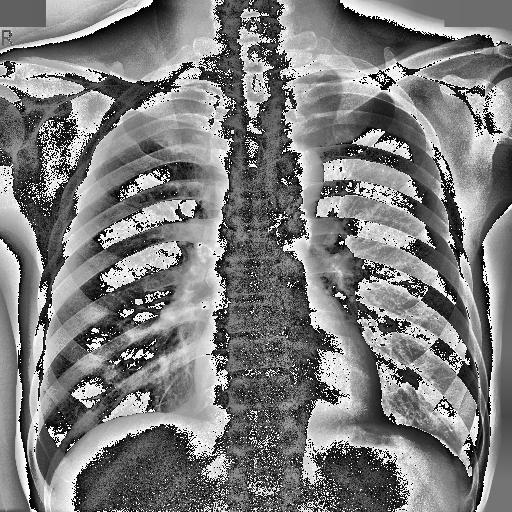0- Aortic enlargement: (260, 138, 326, 205), (264, 140, 324, 208)
11- Pleural thickening: (142, 79, 212, 91), (310, 68, 366, 78)
2- Calcification: (284, 192, 356, 303), (160, 246, 224, 324), (323, 219, 358, 299), (159, 282, 208, 322), (279, 194, 314, 246), (192, 239, 216, 261)
